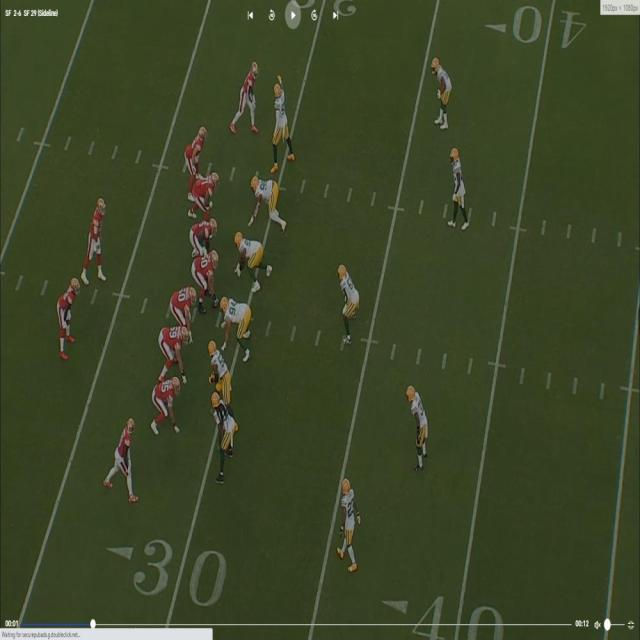center: (198, 248, 222, 297)
db: (408, 386, 428, 468), (342, 480, 359, 567), (433, 57, 451, 130), (450, 146, 466, 228)
lb: (212, 390, 232, 483), (272, 75, 292, 160), (337, 263, 357, 344)
qb: (84, 200, 105, 282)
skill: (104, 418, 133, 495), (148, 376, 180, 436), (232, 62, 257, 128), (60, 278, 80, 352), (186, 127, 207, 171)
